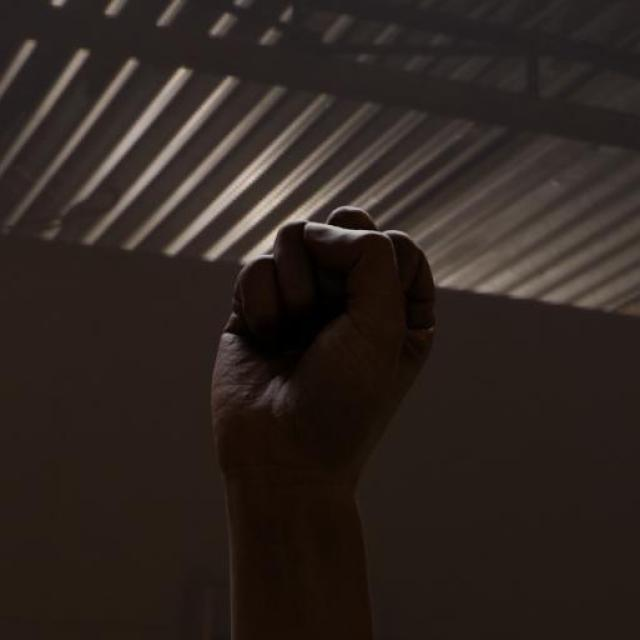S: (202, 201, 445, 500)
